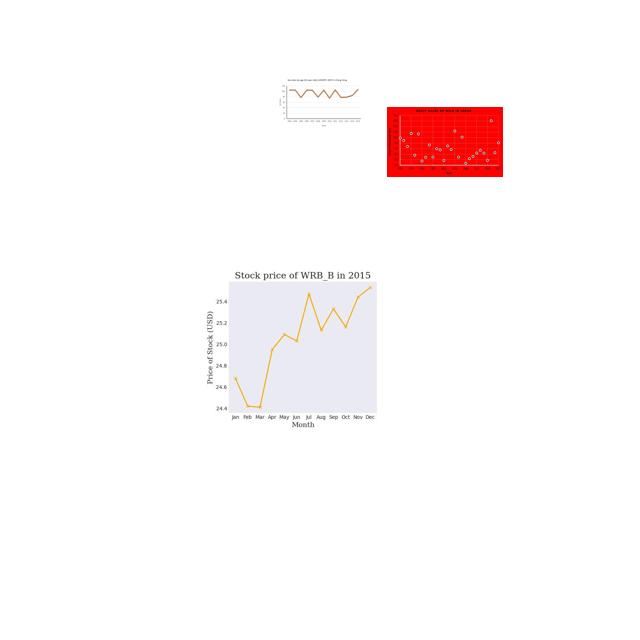Graph: (186, 261, 414, 432), (387, 107, 503, 177), (277, 78, 363, 128)
